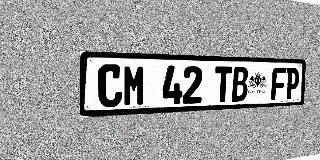2: (183, 66, 202, 104)
4: (162, 65, 183, 105)
B: (231, 67, 249, 102)
C: (98, 64, 122, 108)
F: (271, 67, 286, 100)
M: (123, 65, 146, 107)
P: (285, 68, 300, 99)
T: (214, 66, 232, 102)
